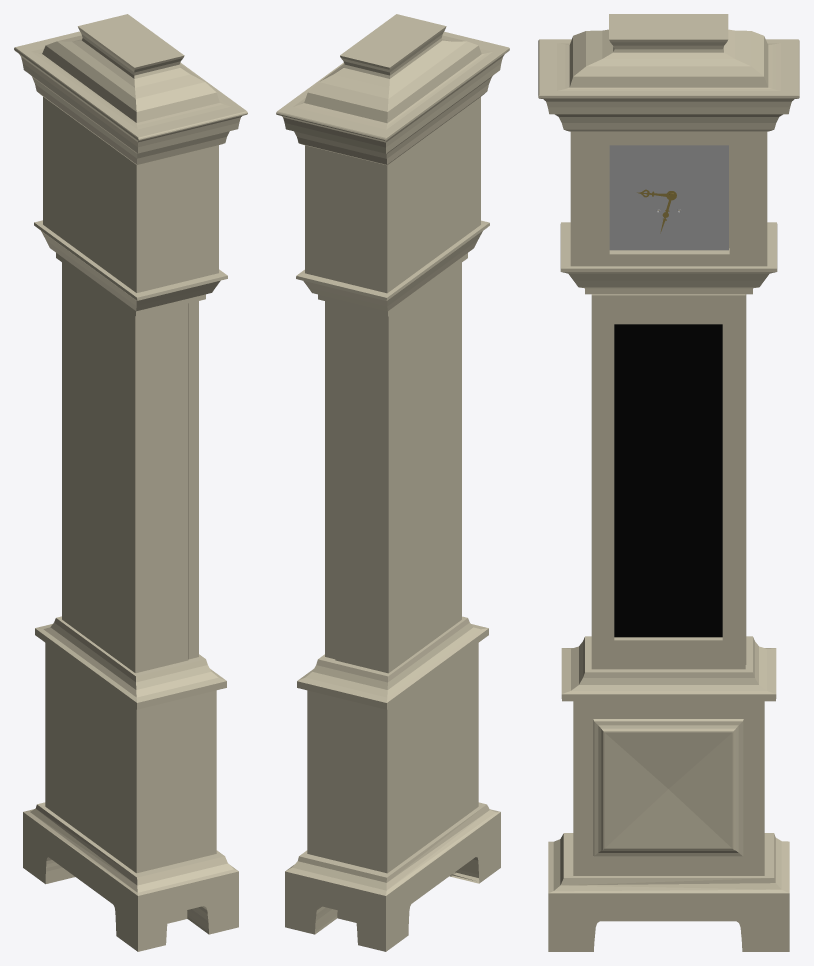
Rendered from grandfatherclock.fbx.
3 views of the same model, side by side, from view 1: azimuth 30°, elevation 25°; view 2: azimuth 150°, elevation 25°; view 3: azimuth 270°, elevation 25° (orthographic). The views are drawn at different scales.
Visible parts, largest first — view 1: $$$DUMMY.Group01; view 2: $$$DUMMY.Group01; view 3: $$$DUMMY.Group01.
Part boxes in pixels (x1,y1,x2,y2): $$$DUMMY.Group01: [14, 14, 247, 951]; $$$DUMMY.Group01: [276, 14, 509, 951]; $$$DUMMY.Group01: [538, 14, 799, 951].
Size of the model in its own units: 55.4 by 415 by 109.
